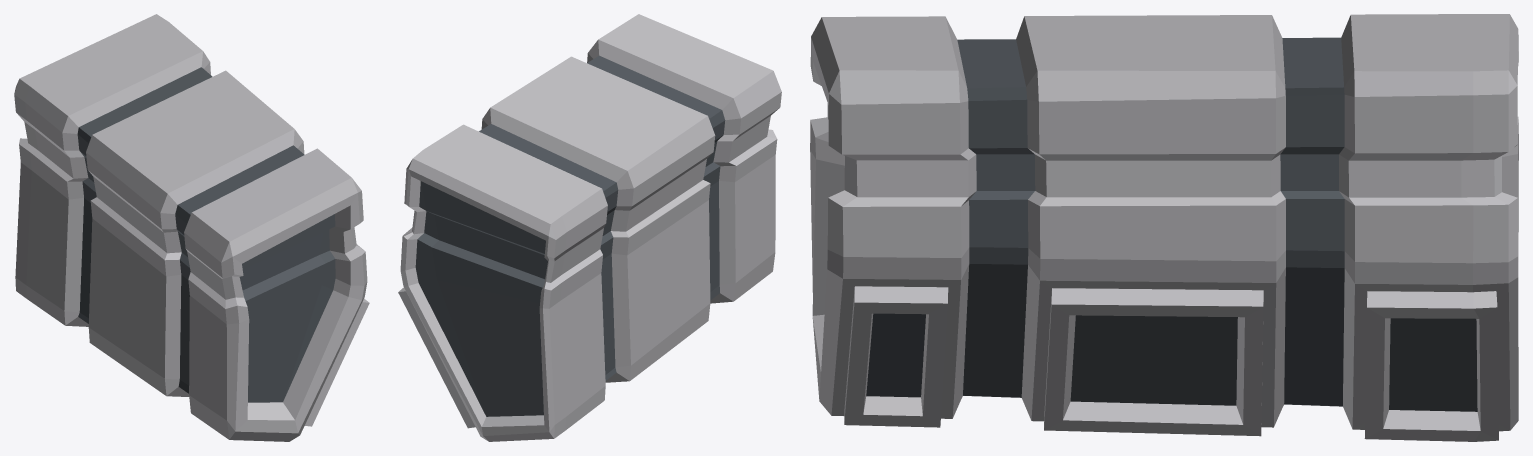
Rendered from Fighter_10_Engine_Left.fbx.
3 views of the same model, side by side, from view 1: azimuth 30°, elevation 25°; view 2: azimuth 150°, elevation 25°; view 3: azimuth 270°, elevation 25° (orthographic). The views are drawn at different scales.
Visible parts, largest first — view 1: Fighter_10_Engine_Left; view 2: Fighter_10_Engine_Left; view 3: Fighter_10_Engine_Left.
Boxes of the visible parts, <box> form: Fighter_10_Engine_Left: <box>14,14,369,441</box>; Fighter_10_Engine_Left: <box>398,14,781,441</box>; Fighter_10_Engine_Left: <box>810,14,1518,441</box>.
Bounding box in the file's own units: 403 × 595 × 912.
2 materials, 2 textured.
